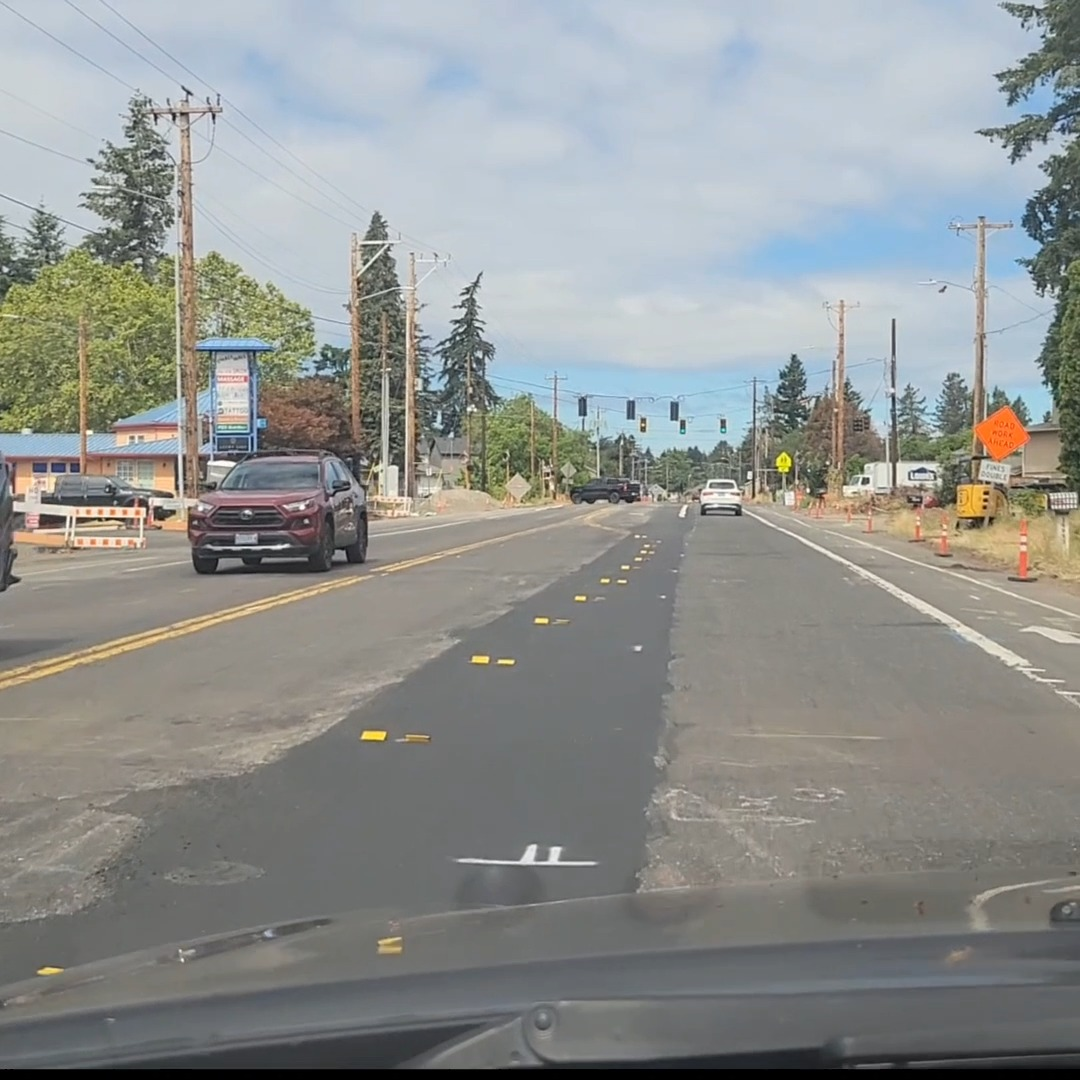car: (187, 449, 369, 574), (33, 474, 176, 525), (570, 476, 642, 504), (699, 479, 744, 515)
crosswalk-sign: (775, 451, 791, 472)
delineator: (1006, 519, 1037, 581), (933, 514, 953, 558), (909, 511, 924, 542), (864, 502, 875, 532), (844, 502, 853, 525), (806, 495, 816, 514), (814, 497, 823, 518), (794, 487, 802, 509)
